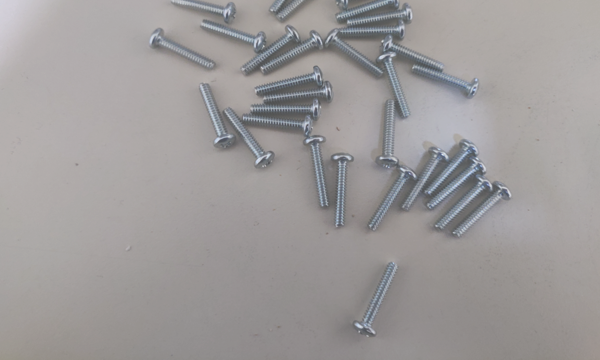longscrew: (356, 258, 404, 338), (367, 163, 415, 235), (225, 105, 277, 171), (400, 146, 453, 208), (424, 139, 477, 201), (428, 154, 484, 212), (435, 174, 491, 232), (455, 181, 511, 239), (243, 25, 305, 77), (409, 60, 484, 100), (144, 29, 217, 70), (325, 33, 390, 79), (261, 31, 328, 75), (195, 84, 235, 152), (202, 14, 269, 52), (300, 134, 328, 216), (330, 150, 357, 233), (384, 34, 445, 69), (254, 66, 326, 95), (378, 55, 411, 118), (241, 111, 319, 137), (248, 101, 326, 127), (261, 82, 338, 108), (170, 0, 238, 25), (352, 0, 414, 27), (381, 98, 403, 172), (338, 0, 400, 21), (336, 24, 414, 39), (282, 0, 332, 18), (270, 0, 320, 9), (338, 0, 401, 7)
